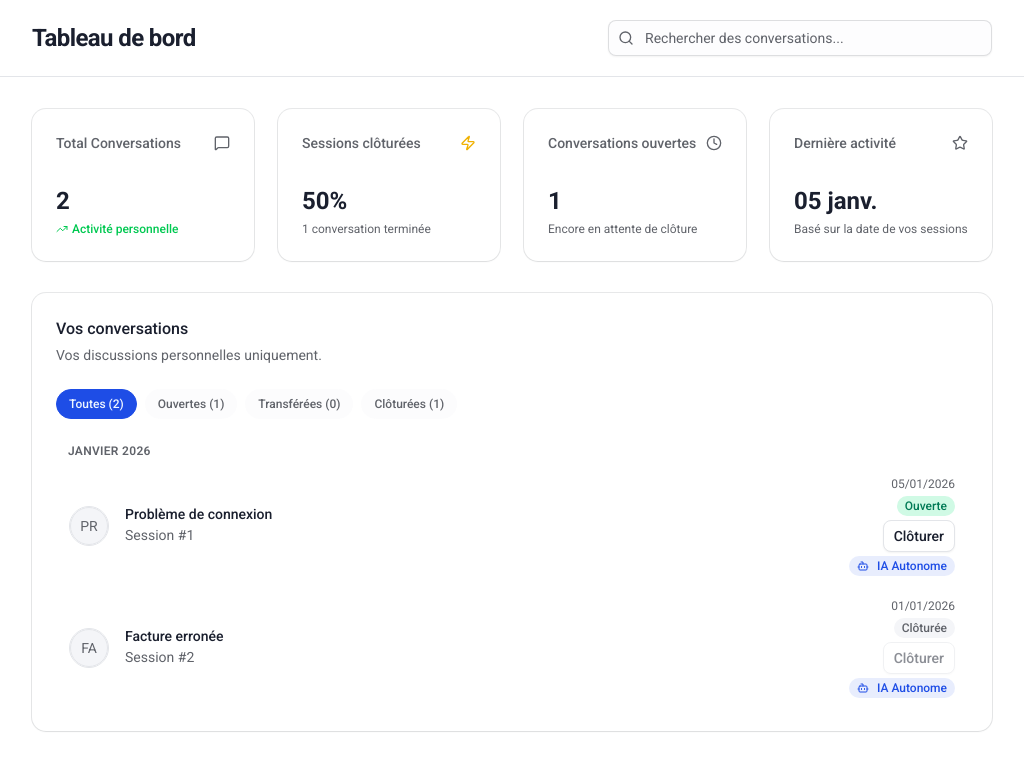
Test case: UserDashboard › shows an empty-results message when the search has no matches
expect the text "Problème de connexion" is shown: met, box top-left (125, 507), bottom-right (272, 521)
Type "introuvable" into the search field with placeholder "Rechercher des conversations..." at (800, 38), box top-left (608, 20), bottom-right (992, 56)
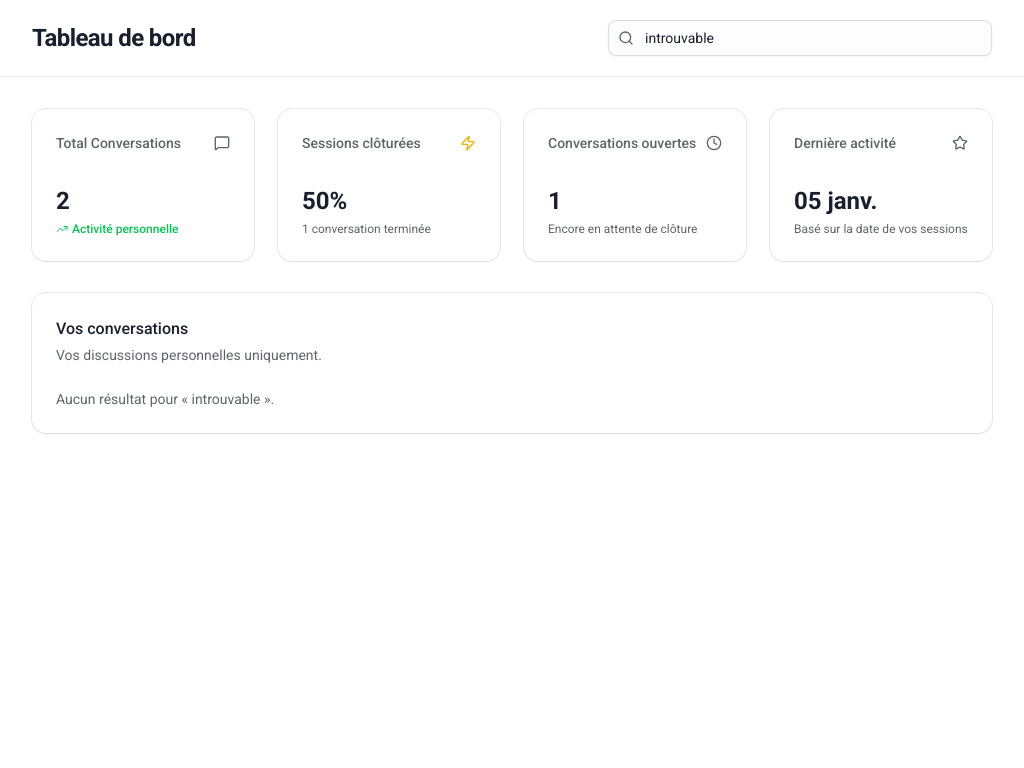
expect the text "Aucun résultat pour « introuvable »." is shown: met, box top-left (56, 391), bottom-right (274, 407)
